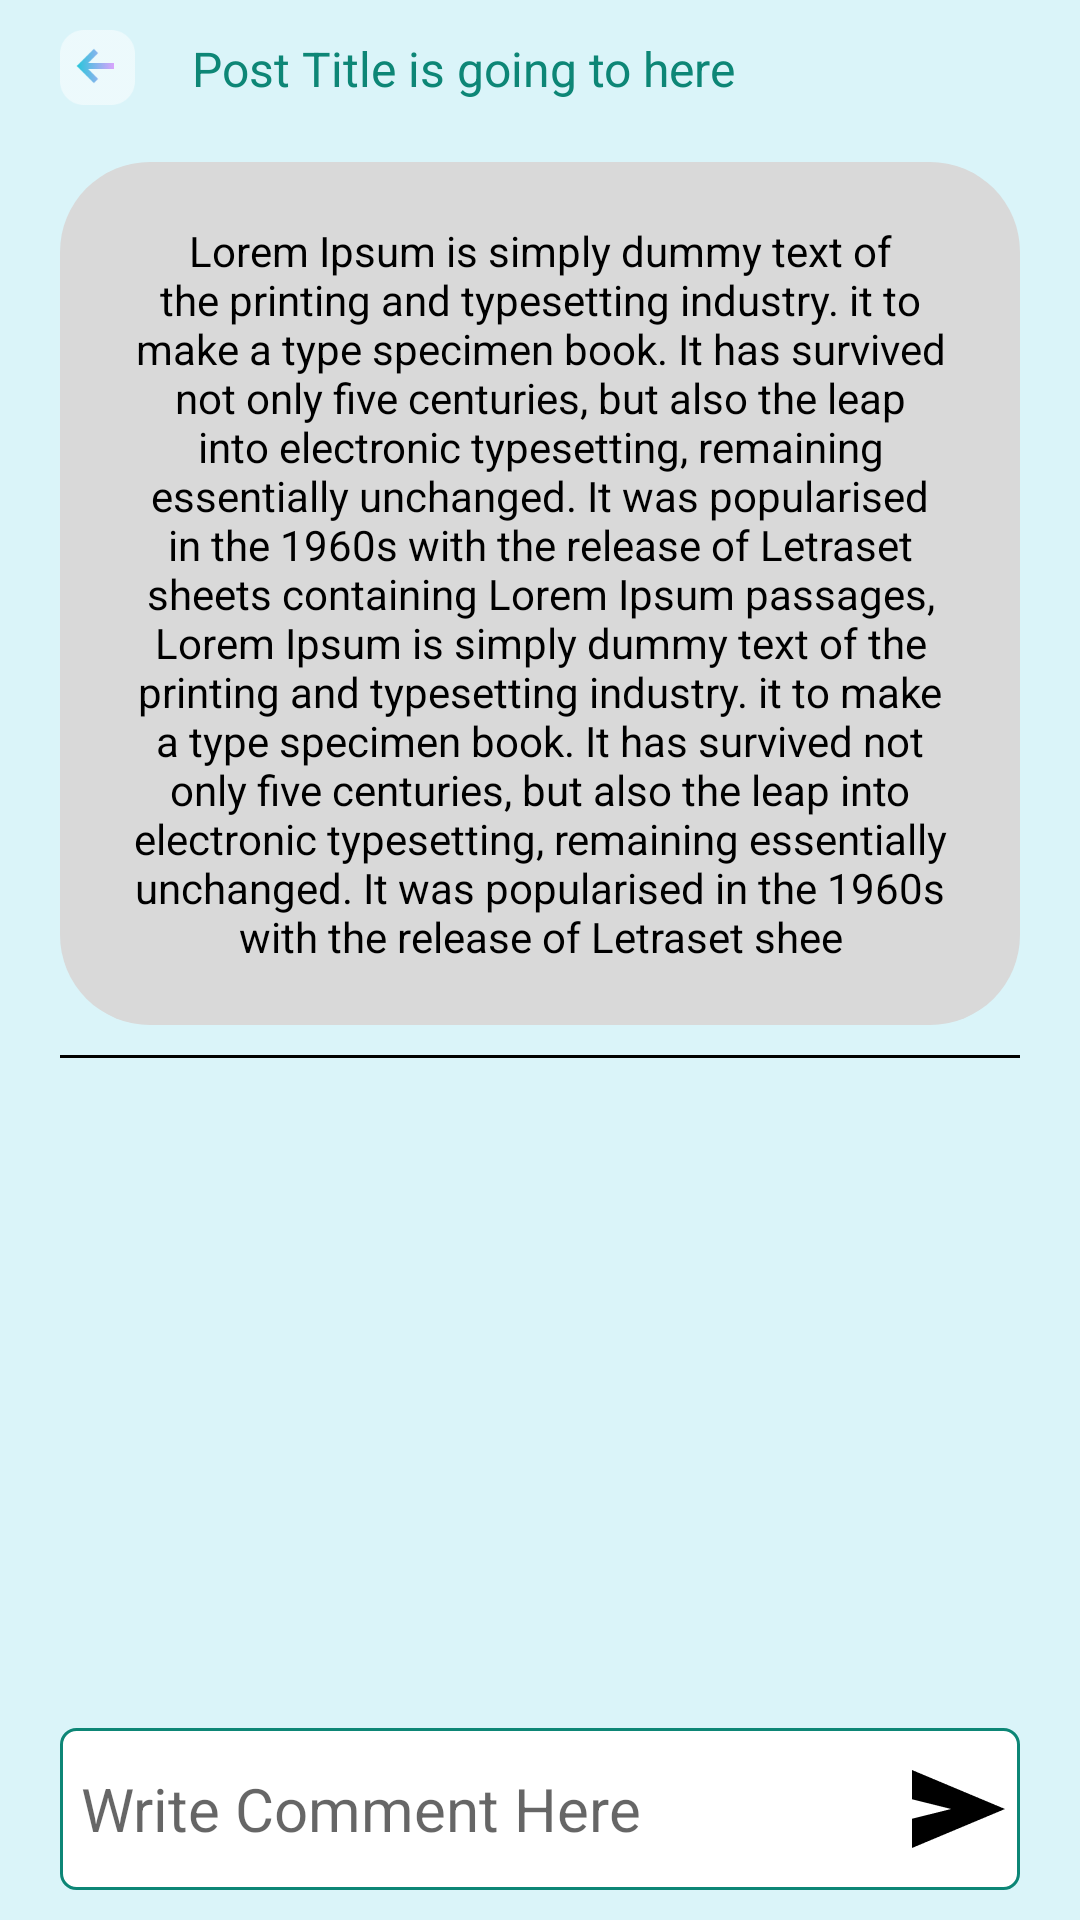

Icon bounding boxes for this 1080px×1920px phone screenshot, format (x1, y1, x2, y2):
arrow left: (60, 30, 135, 105)
